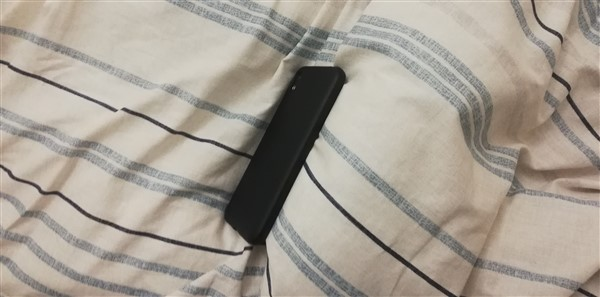telefon: (217, 62, 350, 249)
